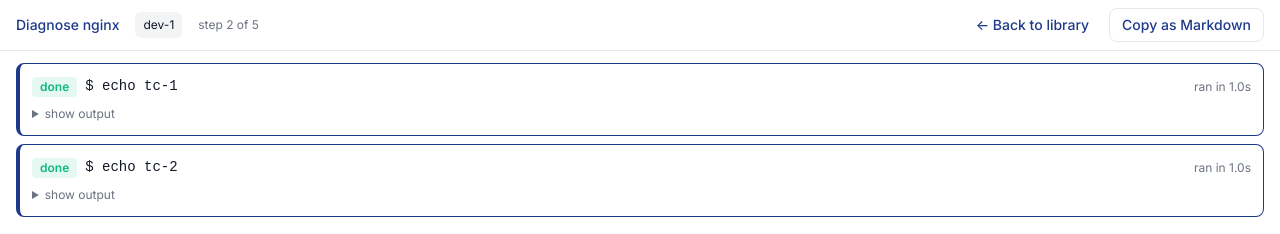
Test case: ScenariosRunMode — interactions › copies markdown to clipboard when [Copy as Markdown] is clicked and surfaces a success toast
Click the button with test id "scenarios-run-copy-md" at (1187, 25), box [1109,8,1264,42]
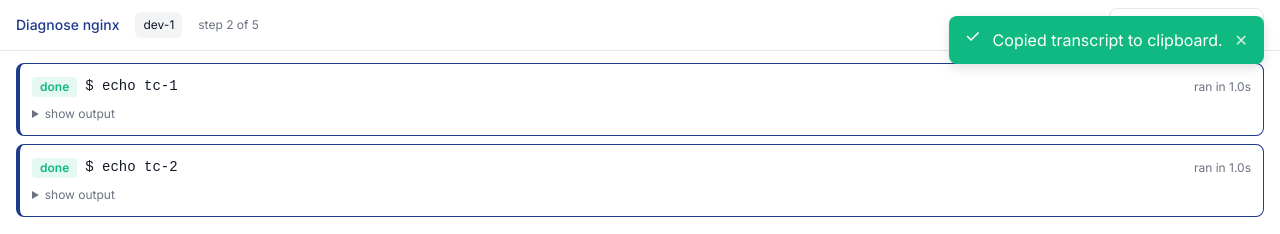
Now the message shows "Copied transcript to clipboard", box [993,30,1223,50]
